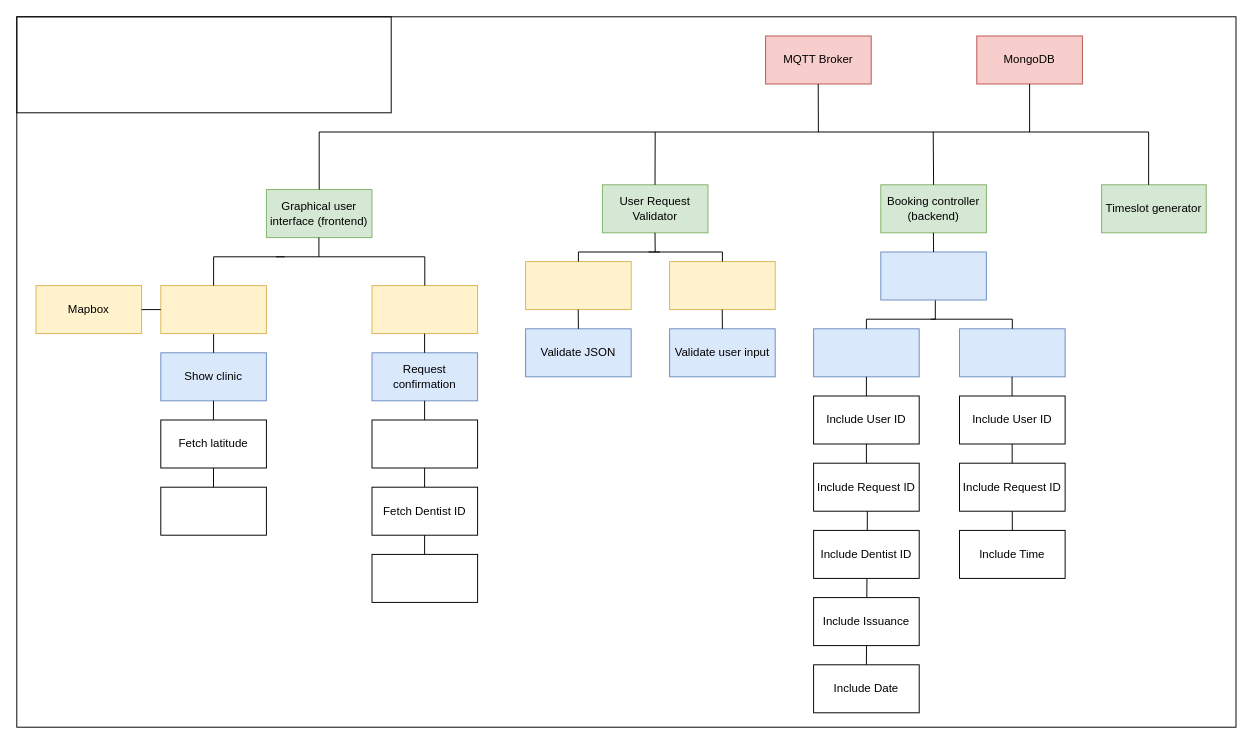
Image size: 1253x744. Some labels were removed from this diagram. The centre of each missing label's shape, as x and y in pixels:
Booking GUI: (424,309)
Create appointment: (933,275)
Create booking request: (866,352)
Create booking response: (1012,352)
Fetch Date: (424,577)
Fetch longitude: (213,510)
Fetch user ID: (424,443)
Functional Decomposition Diagram : Dentistimo system: (203,64)
Map GUI: (213,309)
Semantic filter: (722,285)
Syntax filter: (578,285)
